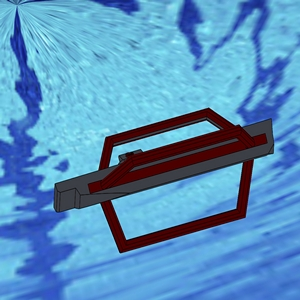submarine: (33, 88, 297, 262)
